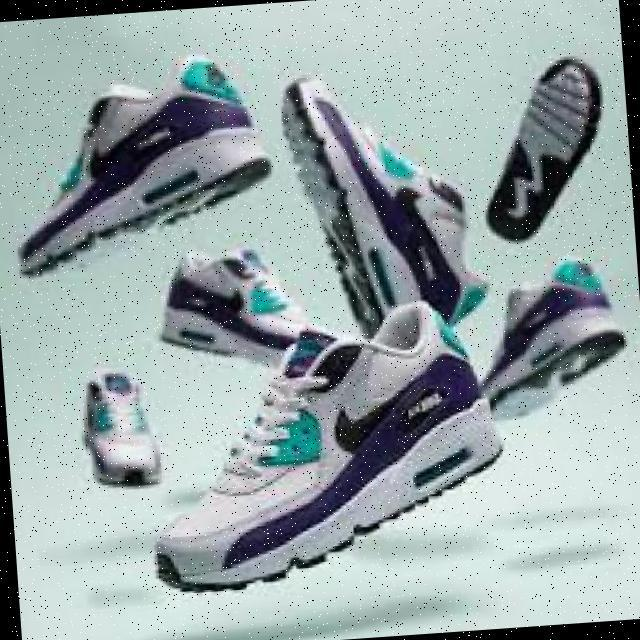Nike: (327, 377, 428, 458)
